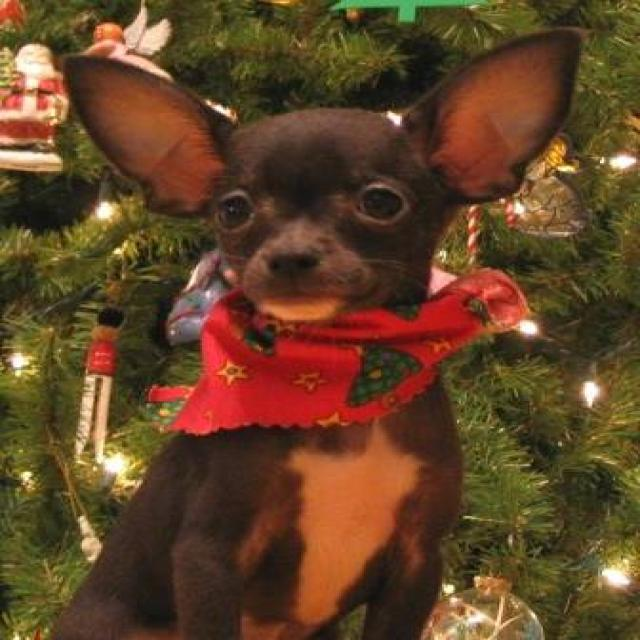dog: (14, 24, 592, 638)
